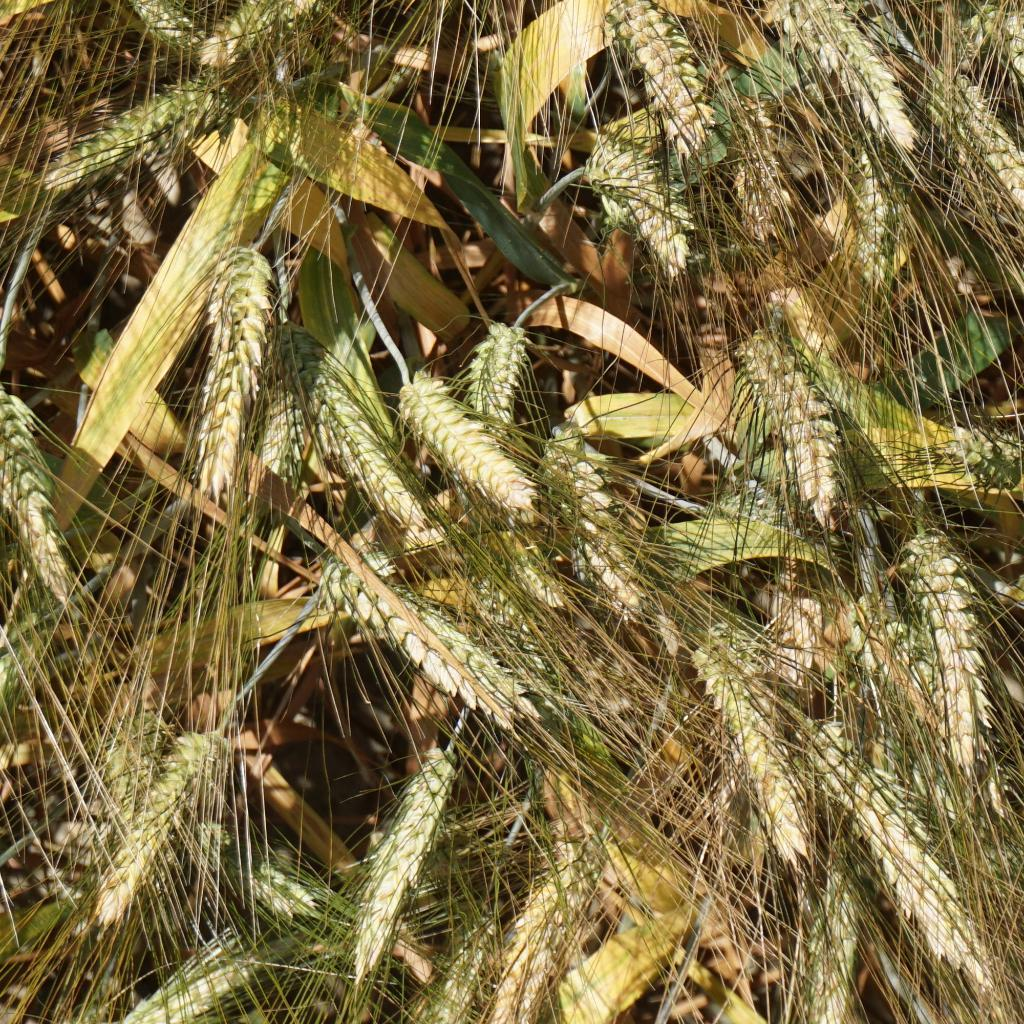0-0: (808, 720, 964, 958), (334, 734, 455, 986), (293, 338, 431, 534), (186, 233, 279, 512), (500, 820, 620, 1017), (695, 646, 804, 853), (737, 335, 851, 514), (548, 419, 647, 617), (765, 0, 906, 137), (892, 534, 991, 717), (328, 550, 457, 685), (396, 376, 523, 508), (581, 141, 697, 281), (41, 85, 211, 180), (607, 0, 717, 145), (0, 384, 70, 578), (105, 744, 198, 883), (931, 73, 1024, 211), (786, 866, 863, 1024), (470, 560, 551, 678), (208, 826, 307, 918), (835, 142, 899, 271), (991, 8, 1024, 215), (735, 92, 783, 231), (120, 958, 221, 1024), (94, 692, 159, 790), (948, 423, 1020, 503), (843, 586, 905, 677), (428, 918, 481, 1024), (466, 311, 520, 412), (261, 373, 308, 483), (121, 0, 196, 54), (213, 0, 279, 57), (890, 614, 932, 701), (0, 616, 40, 696), (515, 553, 567, 608), (715, 487, 775, 527), (289, 0, 361, 16)
